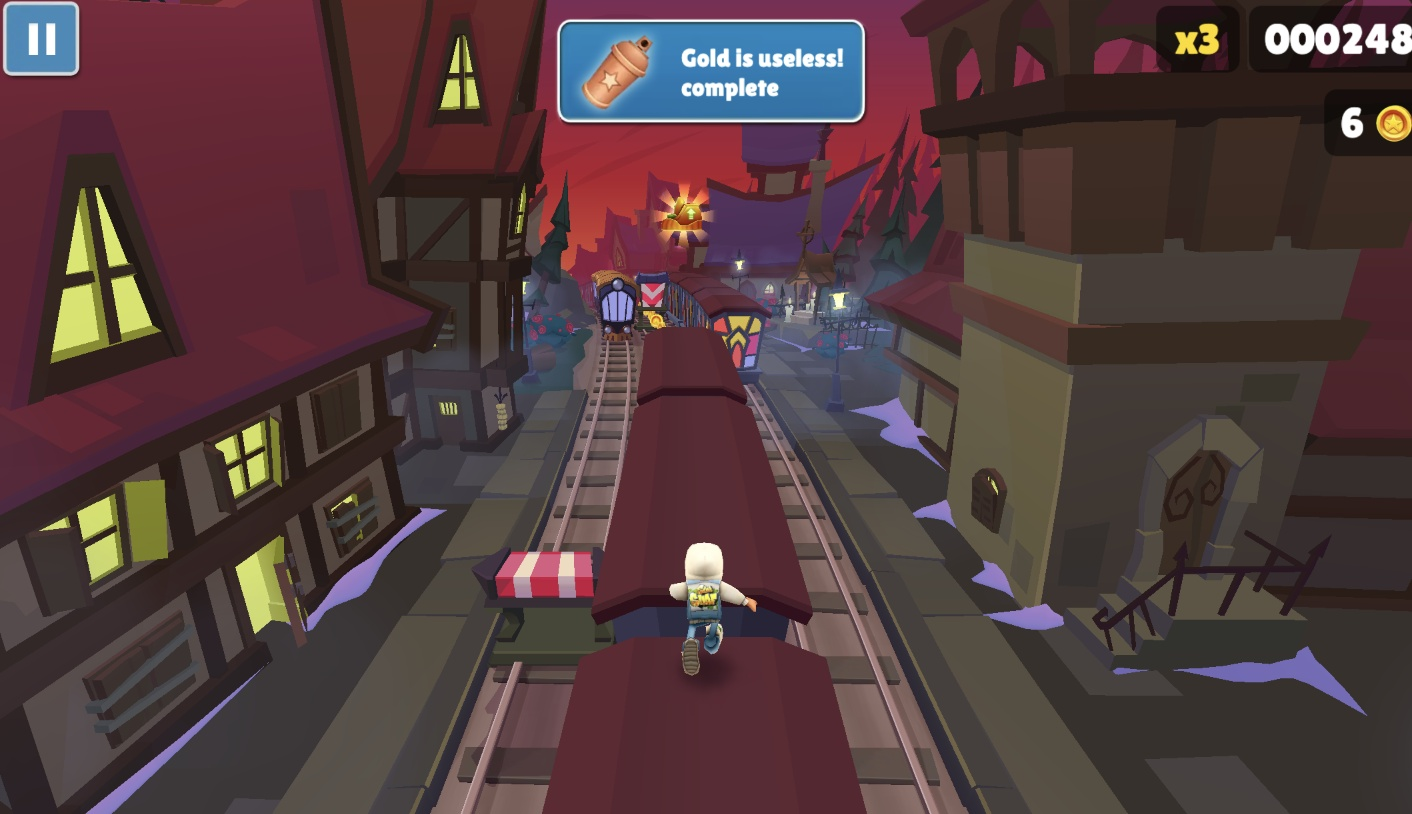ground_barrier: (471, 546, 613, 667)
overhead_barrier: (634, 271, 669, 327)
train: (544, 329, 867, 814), (667, 273, 774, 389), (588, 270, 639, 343)
